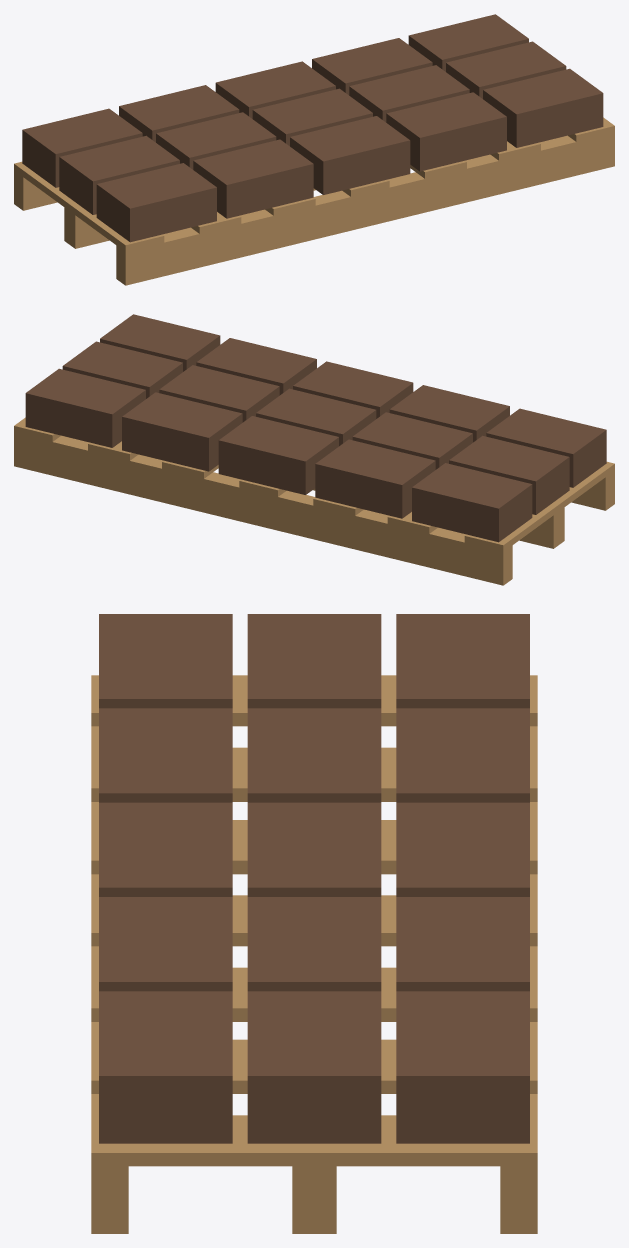
File: adobe_pallet_full.glb
3 views of the same model, one above another, from view 1: azimuth 30°, elevation 25°; view 2: azimuth 150°, elevation 25°; view 3: azimuth 270°, elevation 25° (orthographic). The views are drawn at different scales.
Visible parts, largest first — view 1: adobe_pallet_full:compound; view 2: adobe_pallet_full:compound; view 3: adobe_pallet_full:compound.
Boxes of the visible parts, x1,y1,x2,y2 form: adobe_pallet_full:compound: (14, 14, 614, 285); adobe_pallet_full:compound: (14, 314, 614, 585); adobe_pallet_full:compound: (91, 614, 537, 1233).
Bounding box in the file's own units: 1.22 × 0.176 × 0.48.
